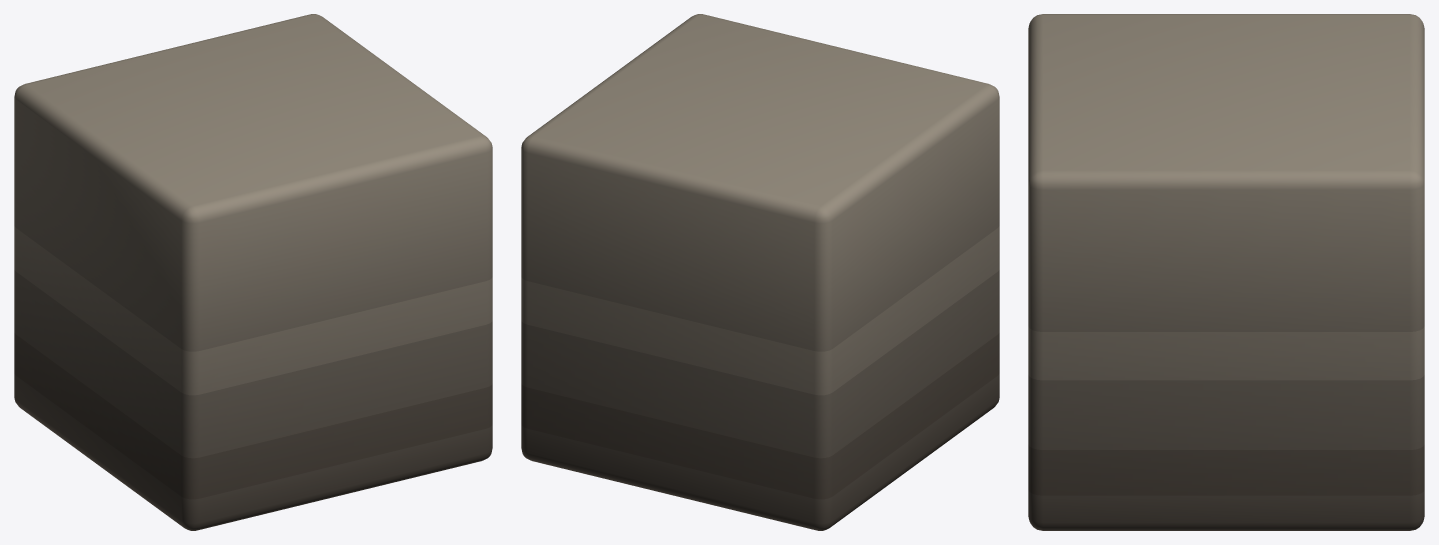
3 views of the same model, side by side, from view 1: azimuth 30°, elevation 25°; view 2: azimuth 150°, elevation 25°; view 3: azimuth 270°, elevation 25° (orthographic). The views are drawn at different scales.
Visible parts, largest first — view 1: Cube_05; view 2: Cube_05; view 3: Cube_05.
Part boxes in pixels (x1,y1,x2,y2): Cube_05: [14, 14, 492, 530]; Cube_05: [521, 14, 999, 530]; Cube_05: [1028, 14, 1424, 530].
Size of the model in its own units: 2 by 2 by 2.
